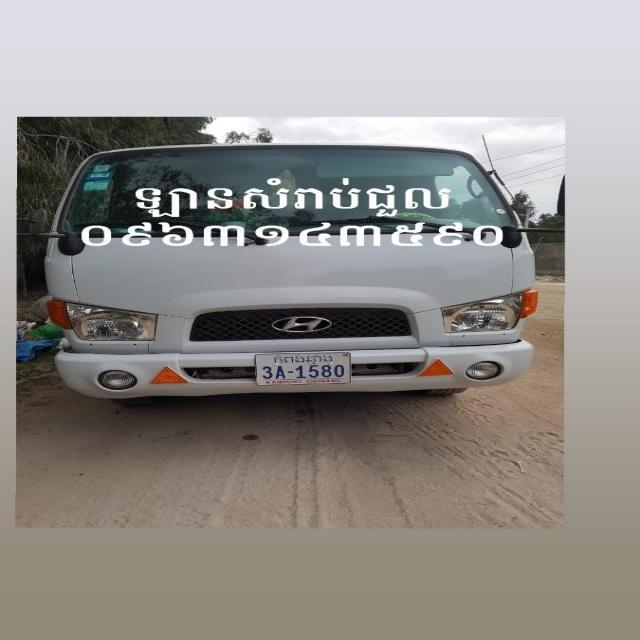Kampong_Chhnang: (274, 354, 332, 364)
